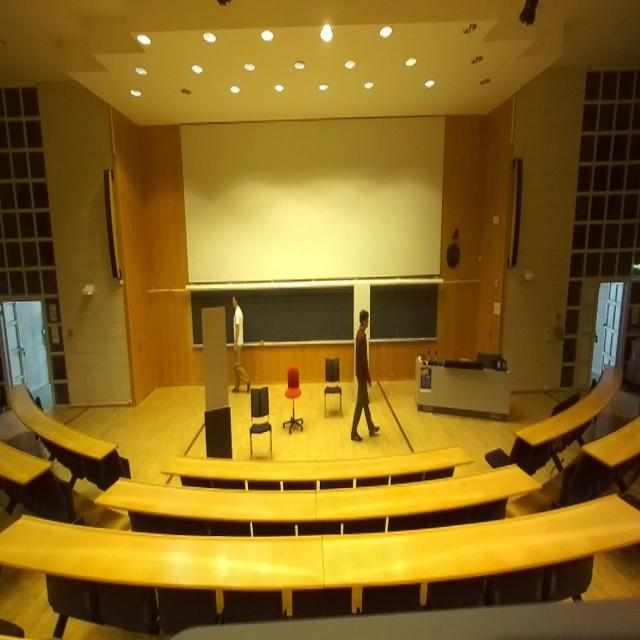person: (350, 309, 380, 441), (231, 295, 251, 393)
